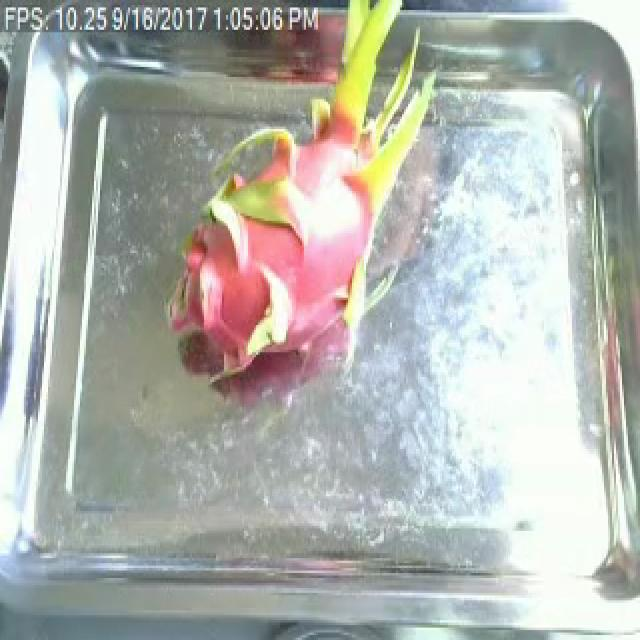fruit: (144, 12, 452, 400)
